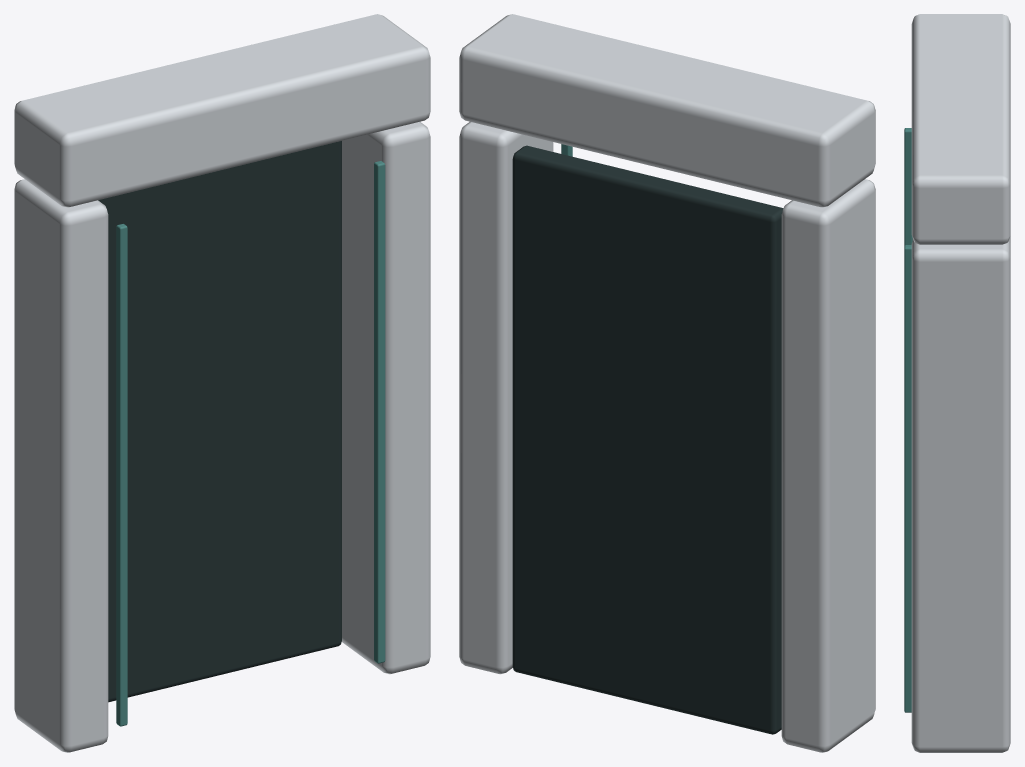
The model's file is wp-porte-de-sas.glb.
3 views of the same model, side by side, from view 1: azimuth 30°, elevation 25°; view 2: azimuth 150°, elevation 25°; view 3: azimuth 270°, elevation 25° (orthographic). The views are drawn at different scales.
Visible parts, largest first — view 1: wp-porte-de-sas; view 2: wp-porte-de-sas; view 3: wp-porte-de-sas.
Part boxes in pixels (<box>): wp-porte-de-sas: <box>14,14,430,752</box>; wp-porte-de-sas: <box>459,14,875,752</box>; wp-porte-de-sas: <box>904,14,1010,752</box>.
Bounding box in the file's own units: 1.5 × 2.4 × 0.4.
